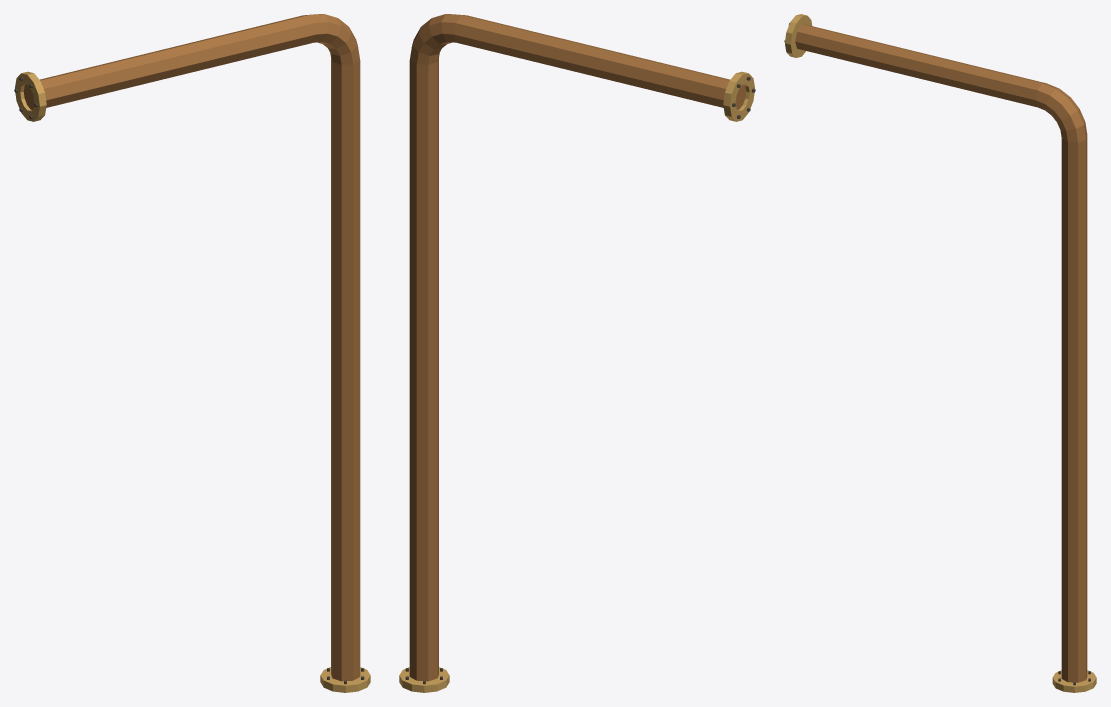
File: pipe_run.glb
3 views of the same model, side by side, from view 1: azimuth 30°, elevation 25°; view 2: azimuth 150°, elevation 25°; view 3: azimuth 330°, elevation 25° (orthographic). The views are drawn at different scales.
Parts seen in each view (by area): view 1: Swept_pipe, End_1_Flange, End_0_Flange; view 2: Swept_pipe, End_1_Flange, End_0_Flange; view 3: Swept_pipe, End_1_Flange, End_0_Flange.
Boxes of the visible parts, bbox=[...] form: Swept_pipe: bbox=[23, 14, 360, 681]; End_1_Flange: bbox=[15, 71, 46, 121]; End_0_Flange: bbox=[320, 667, 370, 692]; Swept_pipe: bbox=[409, 14, 746, 681]; End_1_Flange: bbox=[723, 71, 754, 121]; End_0_Flange: bbox=[399, 667, 449, 692]; Swept_pipe: bbox=[795, 24, 1087, 682]; End_1_Flange: bbox=[785, 14, 812, 57]; End_0_Flange: bbox=[1052, 670, 1096, 692].
Size of the model in its own units: 2.34 by 4.47 by 0.297.
